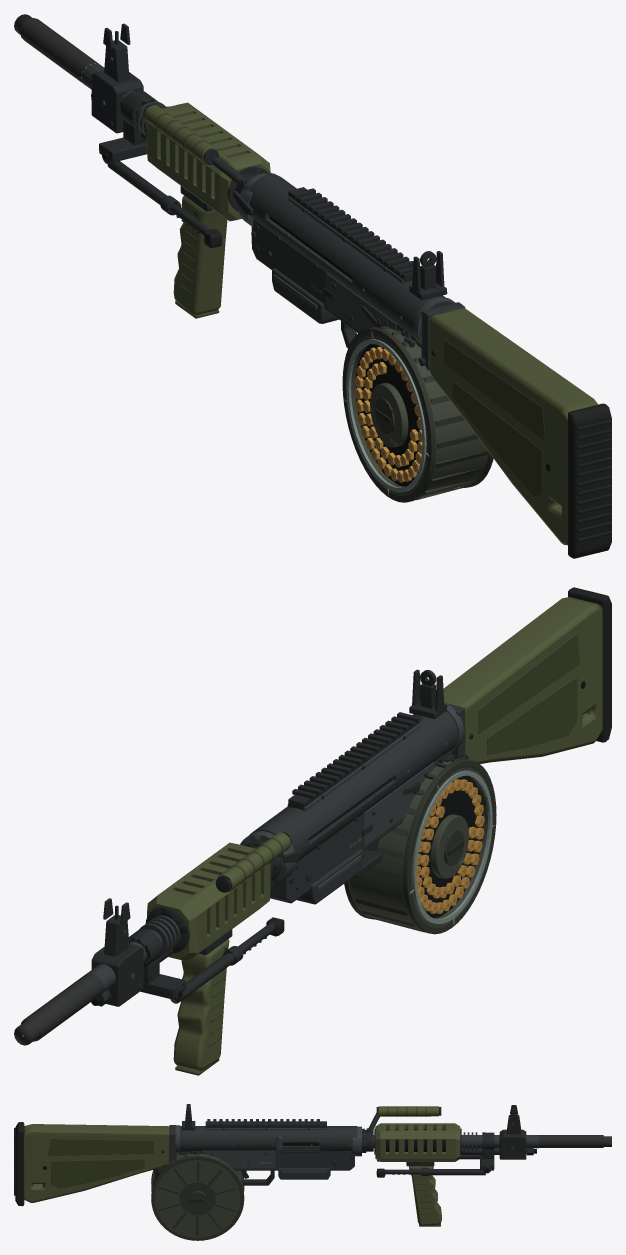
Rendered from weapon-47-DxhOSLFU.glb.
3 views of the same model, one above another, from view 1: azimuth 30°, elevation 25°; view 2: azimuth 150°, elevation 25°; view 3: azimuth 270°, elevation 25° (orthographic). The views are drawn at different scales.
Visible parts, largest first — view 1: salient_weapon_body, salient_weapon_magazine, salient_weapon_iron; view 2: salient_weapon_body, salient_weapon_magazine, salient_weapon_iron; view 3: salient_weapon_body, salient_weapon_magazine, salient_weapon_iron.
Part boxes in pixels (x1,y1,x2,y2): salient_weapon_body: (14, 14, 611, 558); salient_weapon_magazine: (342, 326, 493, 502); salient_weapon_iron: (103, 23, 447, 300); salient_weapon_body: (14, 587, 611, 1075); salient_weapon_magazine: (344, 750, 496, 934); salient_weapon_iron: (103, 669, 447, 923); salient_weapon_body: (14, 1106, 611, 1226); salient_weapon_magazine: (151, 1152, 244, 1240); salient_weapon_iron: (182, 1104, 518, 1130).
Size of the model in its own units: 0.0854 by 0.231 by 0.986.
